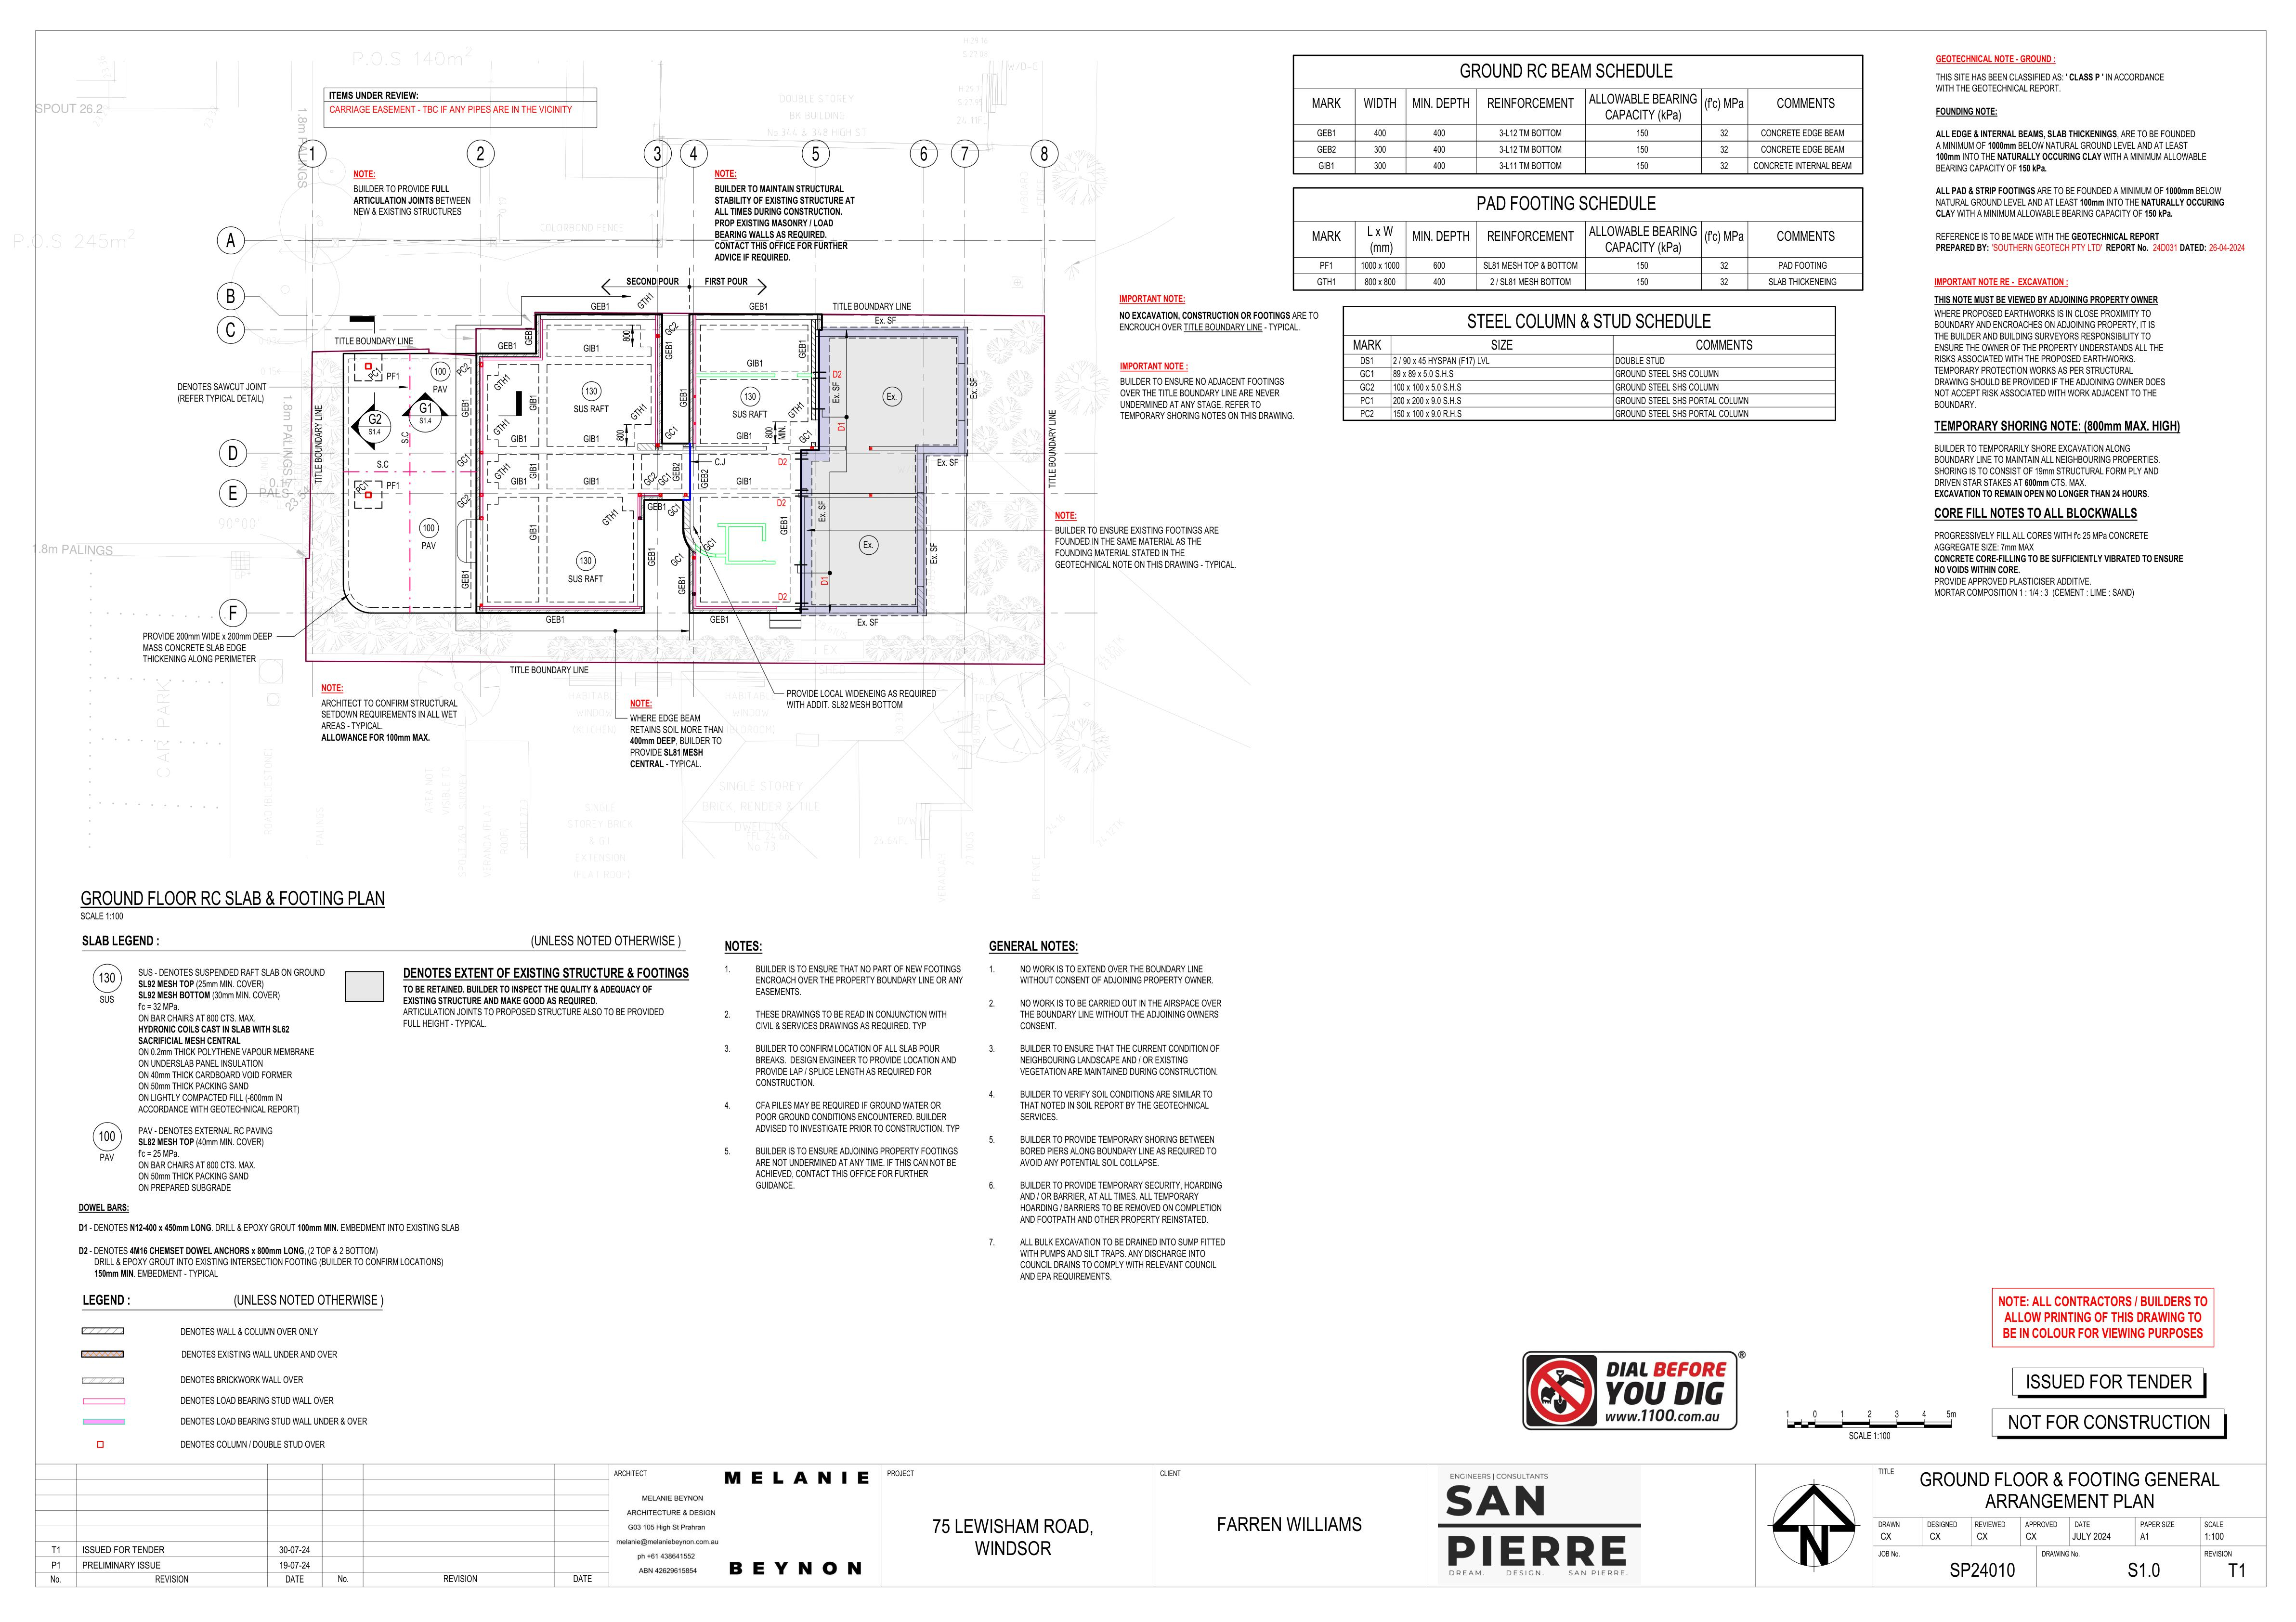D1: (837, 420, 850, 434), (816, 576, 830, 586)
D2: (776, 590, 788, 604), (774, 458, 790, 467), (774, 497, 786, 507), (834, 369, 843, 379)
GC1: (662, 421, 679, 442), (793, 428, 816, 444), (672, 549, 690, 569), (455, 449, 472, 467), (667, 504, 683, 520), (658, 470, 671, 488), (704, 537, 716, 551)
GC2: (637, 467, 657, 484), (662, 318, 681, 335), (458, 493, 472, 509)
GEB: (521, 328, 535, 348)
GEB1: (704, 614, 735, 632), (728, 425, 755, 442), (509, 428, 532, 448), (644, 544, 662, 569), (578, 472, 606, 486), (542, 614, 570, 628), (456, 565, 472, 590), (660, 339, 676, 363), (793, 337, 811, 358), (676, 386, 692, 409), (527, 390, 542, 413), (523, 521, 539, 544), (581, 341, 606, 355), (779, 513, 793, 537), (746, 298, 771, 312), (495, 337, 516, 353), (676, 574, 690, 597), (588, 300, 613, 312), (579, 430, 600, 444), (646, 500, 667, 514), (458, 397, 470, 420), (748, 358, 769, 369), (735, 476, 753, 488), (528, 463, 541, 479), (511, 477, 528, 488)
GEB2: (669, 460, 686, 486), (697, 467, 711, 488)
GTH1: (785, 400, 807, 420), (600, 509, 625, 527), (627, 402, 648, 421), (635, 291, 657, 311), (490, 418, 511, 435), (491, 376, 513, 391), (493, 462, 511, 479)
PAV: (430, 383, 451, 395), (420, 541, 439, 551)
PC1: (365, 365, 379, 379), (355, 481, 369, 495)
PC2: (456, 362, 469, 376)
PF1: (384, 476, 402, 493), (384, 369, 400, 383)
SUS RAFT: (570, 402, 616, 418), (565, 572, 611, 586), (728, 405, 769, 420)
